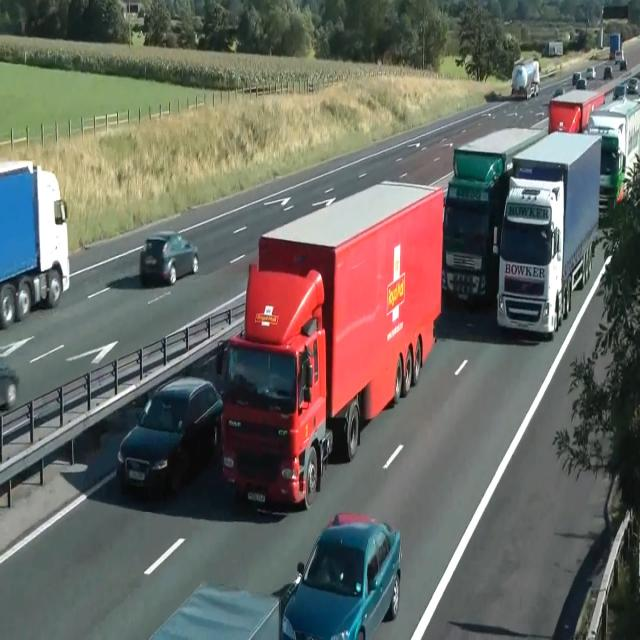bus: (280, 511, 402, 639), (116, 376, 223, 496), (148, 581, 282, 639), (139, 230, 199, 286), (0, 362, 19, 409), (612, 76, 640, 102), (625, 76, 639, 94), (572, 71, 586, 89), (613, 84, 627, 100), (551, 86, 563, 99), (586, 67, 596, 79), (572, 71, 580, 85), (576, 78, 586, 89), (604, 66, 612, 79), (619, 60, 627, 70)
car: (148, 511, 402, 638), (215, 262, 333, 510)
minibus: (216, 179, 444, 510), (495, 130, 601, 338), (441, 126, 545, 308), (548, 76, 640, 222), (0, 158, 70, 329), (586, 96, 640, 204), (548, 87, 606, 133), (511, 57, 540, 99), (541, 40, 563, 57), (609, 32, 621, 59)
